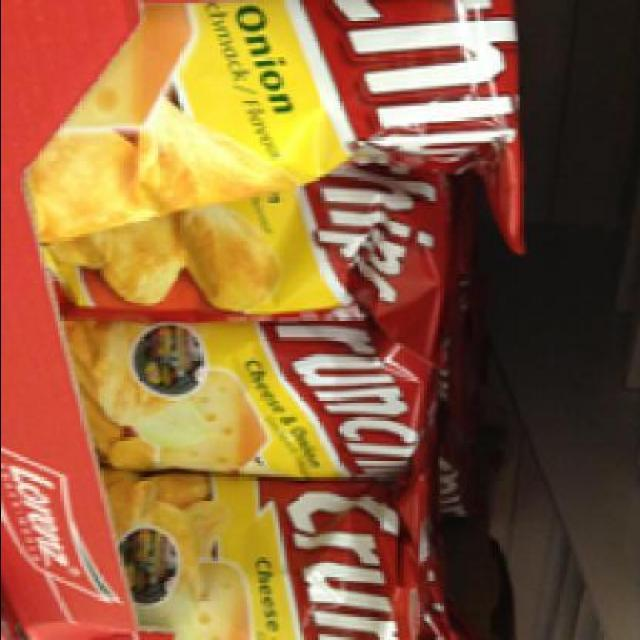Chips: (28, 2, 526, 264), (82, 306, 430, 477), (56, 167, 453, 310), (96, 472, 432, 636)
